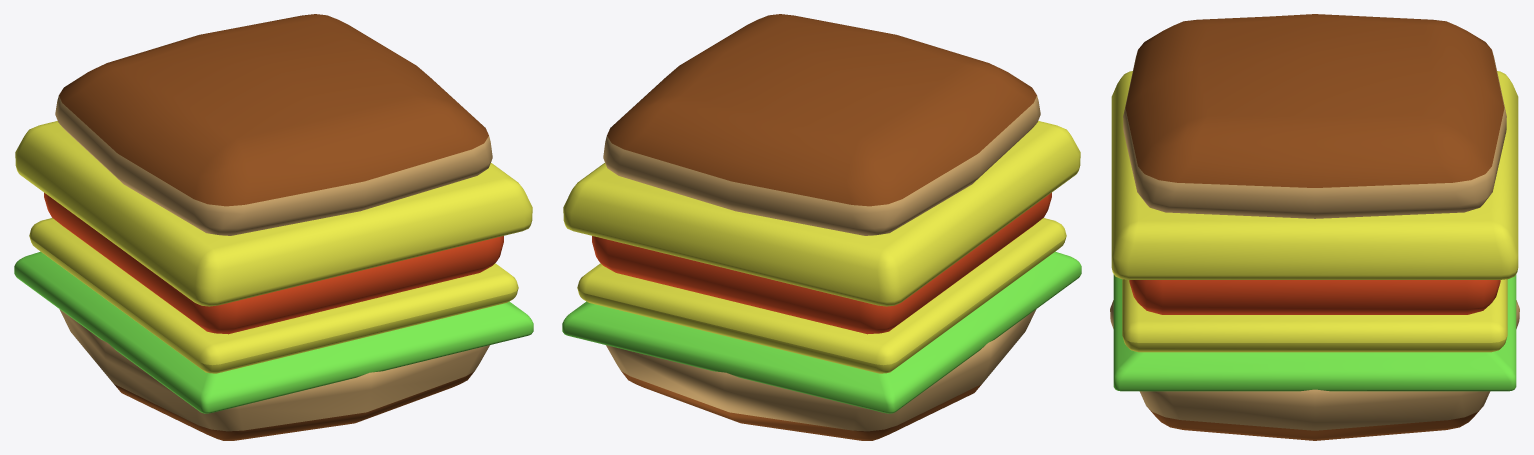
The model's file is Burger.fbx.
3 views of the same model, side by side, from view 1: azimuth 30°, elevation 25°; view 2: azimuth 150°, elevation 25°; view 3: azimuth 270°, elevation 25° (orthographic). The views are drawn at different scales.
Parts seen in each view (by area): view 1: Burger; view 2: Burger; view 3: Burger.
Boxes of the visible parts, x1,y1,x2,y2 form: Burger: (14,14,533,440); Burger: (562,14,1081,440); Burger: (1110,14,1519,440).
Bounding box in the file's own units: 102 × 86.74 × 102.
